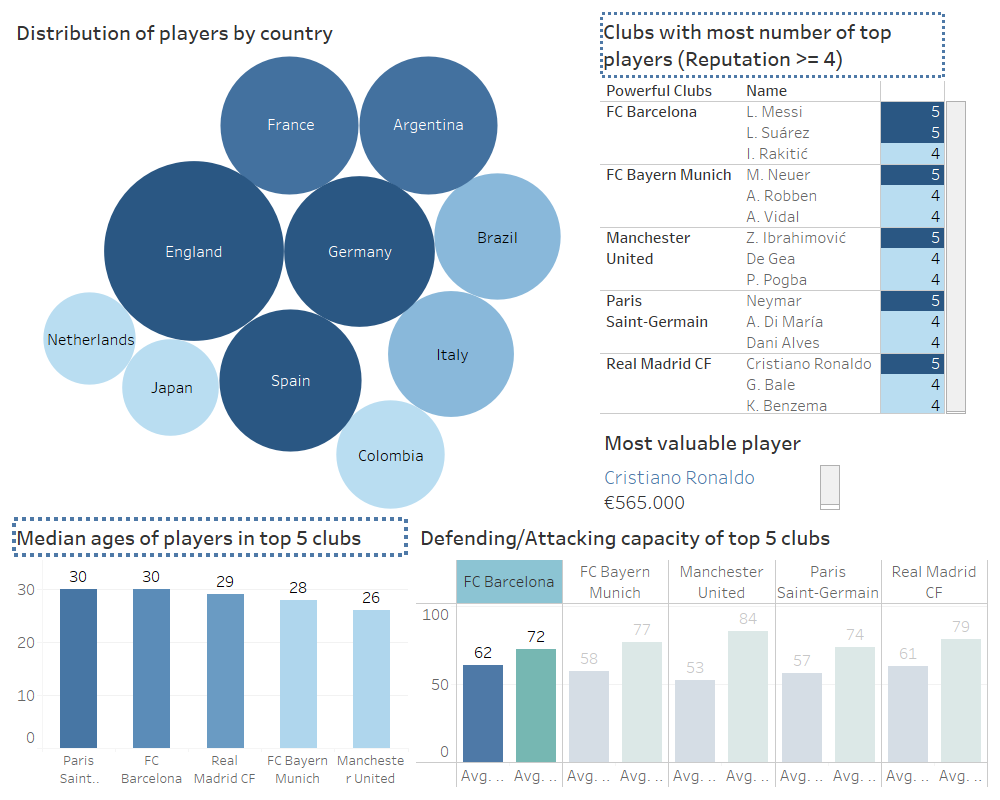

Layout of this report page (visuals, bound fields, positions):
{"tool":"tableau","page":{"name":"Dashboard 1","canvas":[1000,800],"ordinal":0},"visuals":[{"type":"worksheet","title":"Distribution by Country","mark":"Circle","box":[8,8,588,505]},{"type":"worksheet","title":"Clubs with most number of top players (Reputation >= 4)","mark":"Square","rows":["Calculation_144959665052102656","name"],"box":[596,8,396,410]},{"type":"worksheet","title":"Most valuable player","mark":"Automatic","box":[596,418,396,95]},{"type":"worksheet","title":"Median ages of players in top 5 clubs","mark":"Automatic","rows":["age"],"cols":["Calculation_144959665052102656"],"box":[8,513,404,279]},{"type":"worksheet","title":"Defending/Attacking capacity of top 5 clubs","mark":"Automatic","cols":["Calculation_144959665052102656"],"box":[412,513,580,279]}]}

Visuals, with their boxes in screenshot pixels (x1, y1, x2, y2), scaled from the page's 1000x800 canvas onto the 1000x800 screenshot:
"Distribution by Country" worksheet (Circle marks): box=[8, 8, 596, 513]
"Clubs with most number of top players (Reputation >= 4)" worksheet (Square marks): box=[596, 8, 992, 418]
"Most valuable player" worksheet: box=[596, 418, 992, 513]
"Median ages of players in top 5 clubs" worksheet: box=[8, 513, 412, 792]
"Defending/Attacking capacity of top 5 clubs" worksheet: box=[412, 513, 992, 792]
